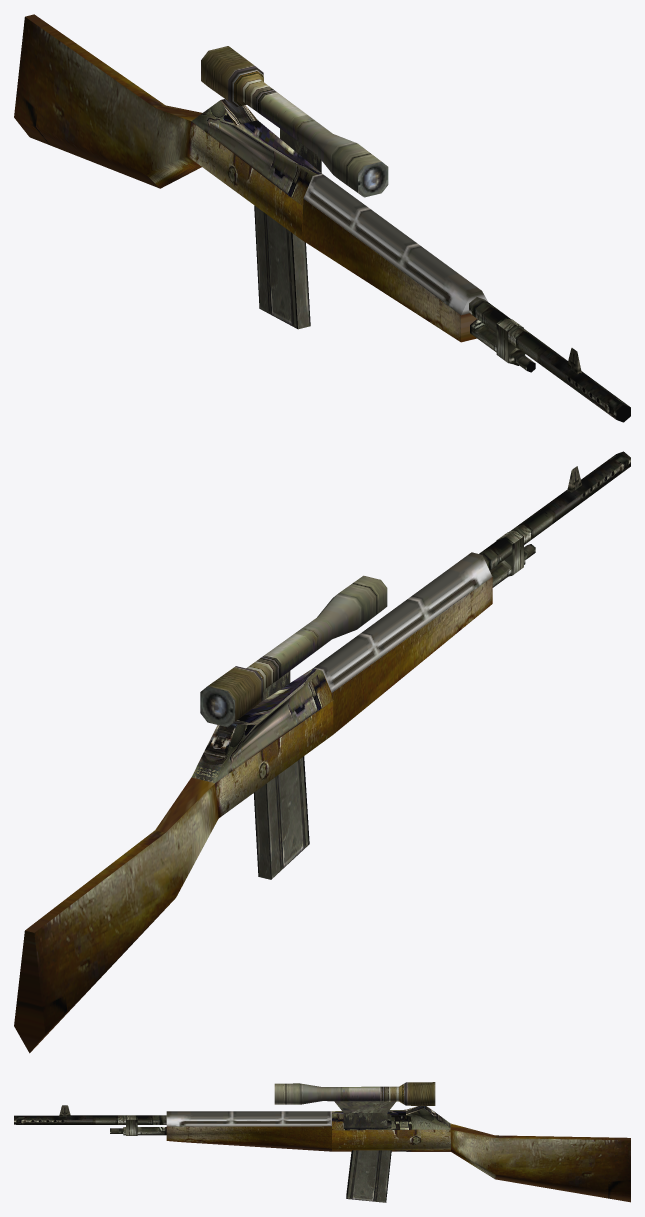
3 renders of one model, top to bottom at view 1: azimuth 30°, elevation 25°; view 2: azimuth 150°, elevation 25°; view 3: azimuth 270°, elevation 25°, orthographic. The views are drawn at different scales.
Parts seen in each view (by area): view 1: _m21_3rd; view 2: _m21_3rd; view 3: _m21_3rd.
Boxes of the visible parts, x1,y1,x2,y2 form: _m21_3rd: (14, 14, 630, 422); _m21_3rd: (14, 451, 630, 1053); _m21_3rd: (14, 1082, 630, 1202).
Size of the model in its own units: 0.0468 by 0.2923 by 1.39.
1 material, 1 textured.
